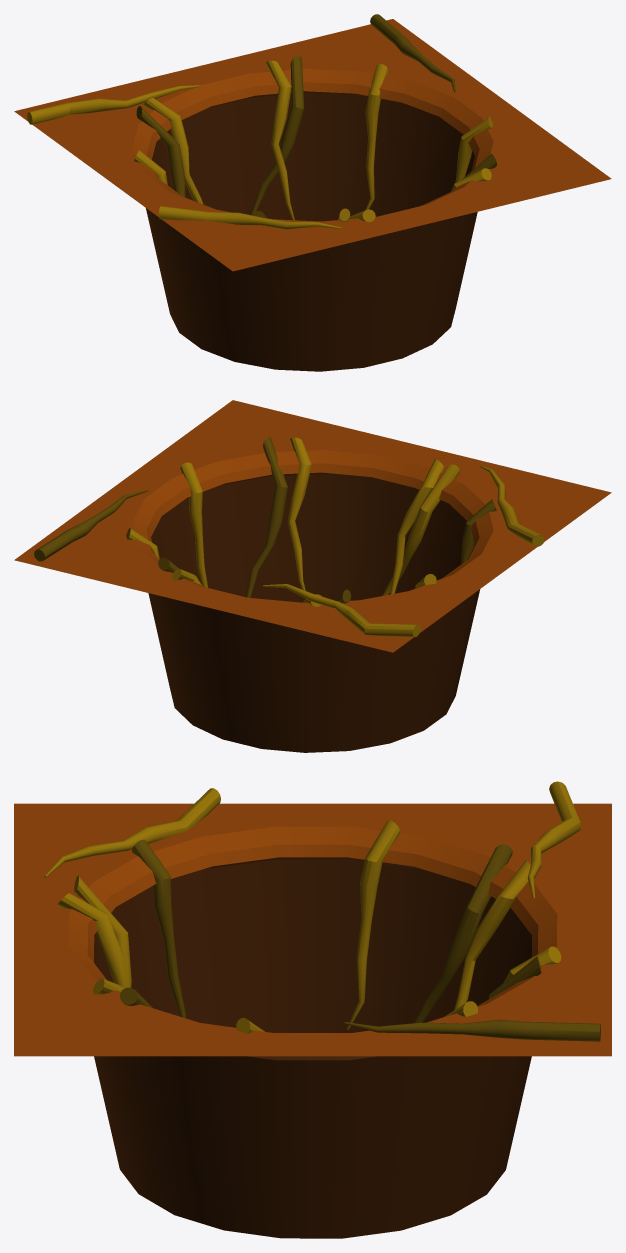
The model's file is piège troue.fbx.
3 renders of one model, top to bottom at view 1: azimuth 30°, elevation 25°; view 2: azimuth 150°, elevation 25°; view 3: azimuth 270°, elevation 25°, orthographic. The views are drawn at different scales.
Visible parts, largest first — view 1: trou, branches; view 2: trou, branches; view 3: trou, branches.
Part boxes in pixels (x1=…): trou: x1=14, y1=19, x2=611, y2=371; branches: x1=27, y1=14, x2=496, y2=229; trou: x1=14, y1=400, x2=611, y2=752; branches: x1=34, y1=436, x2=544, y2=637; trou: x1=14, y1=803, x2=611, y2=1238; branches: x1=44, y1=781, x2=600, y2=1041.
Size of the model in its own units: 202 by 105 by 200.
